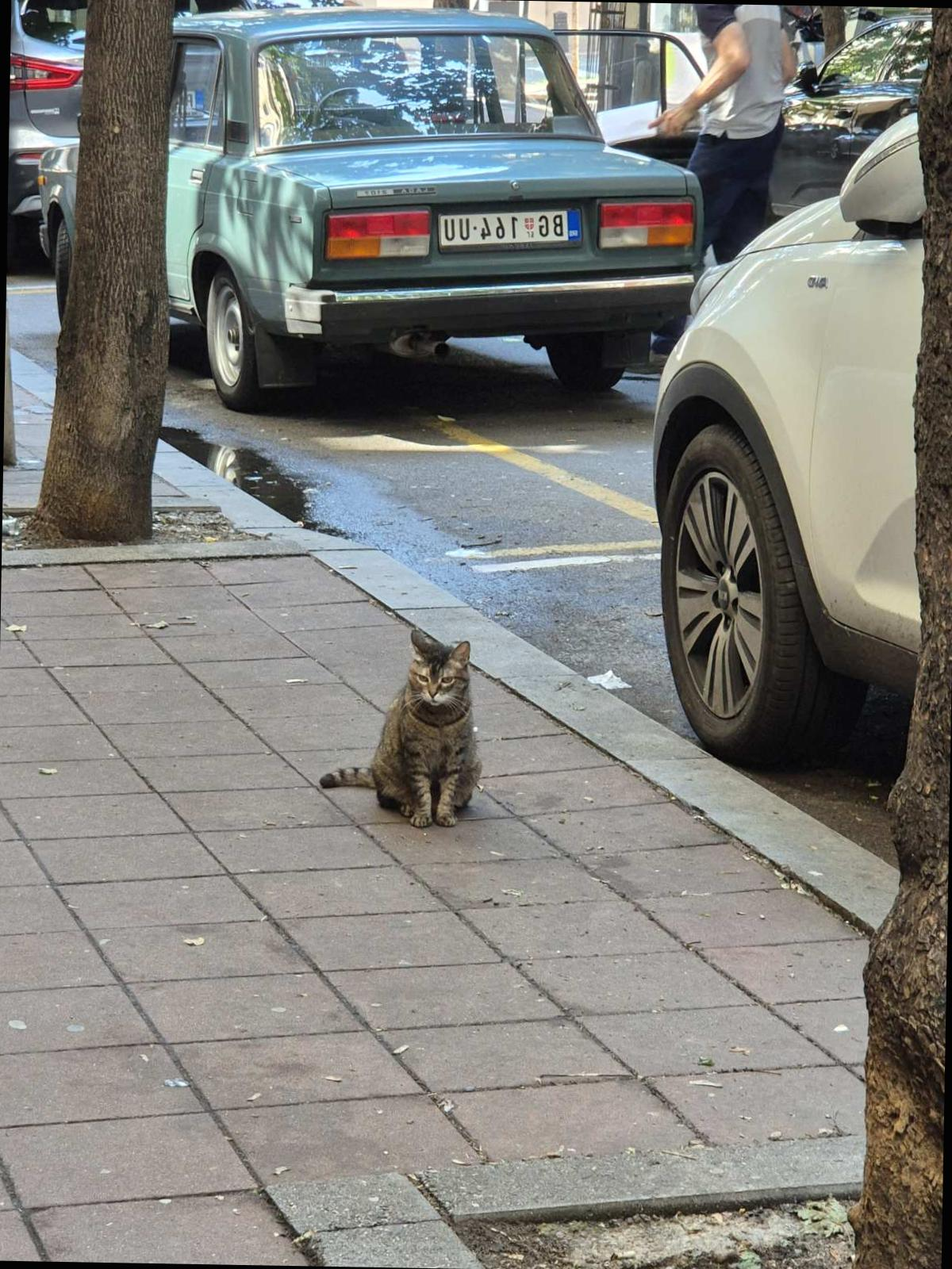macka: (319, 625, 487, 829)
